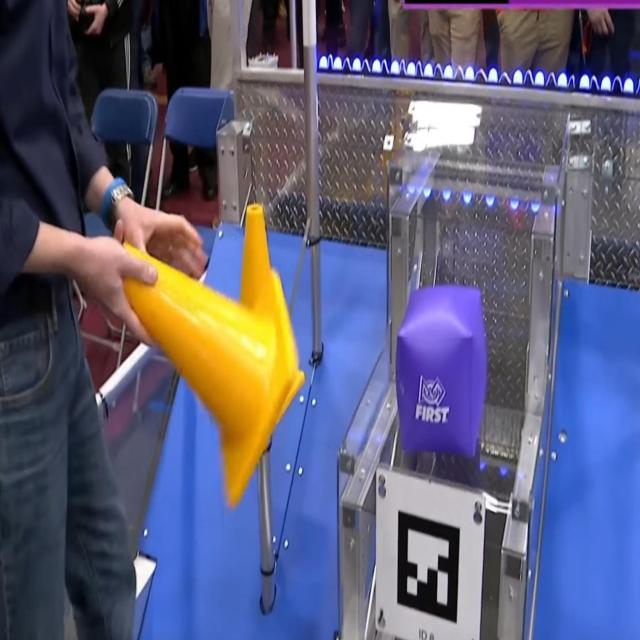frc_cone: (119, 230, 300, 501), (209, 203, 304, 429)
frc_cube: (398, 286, 488, 458)
